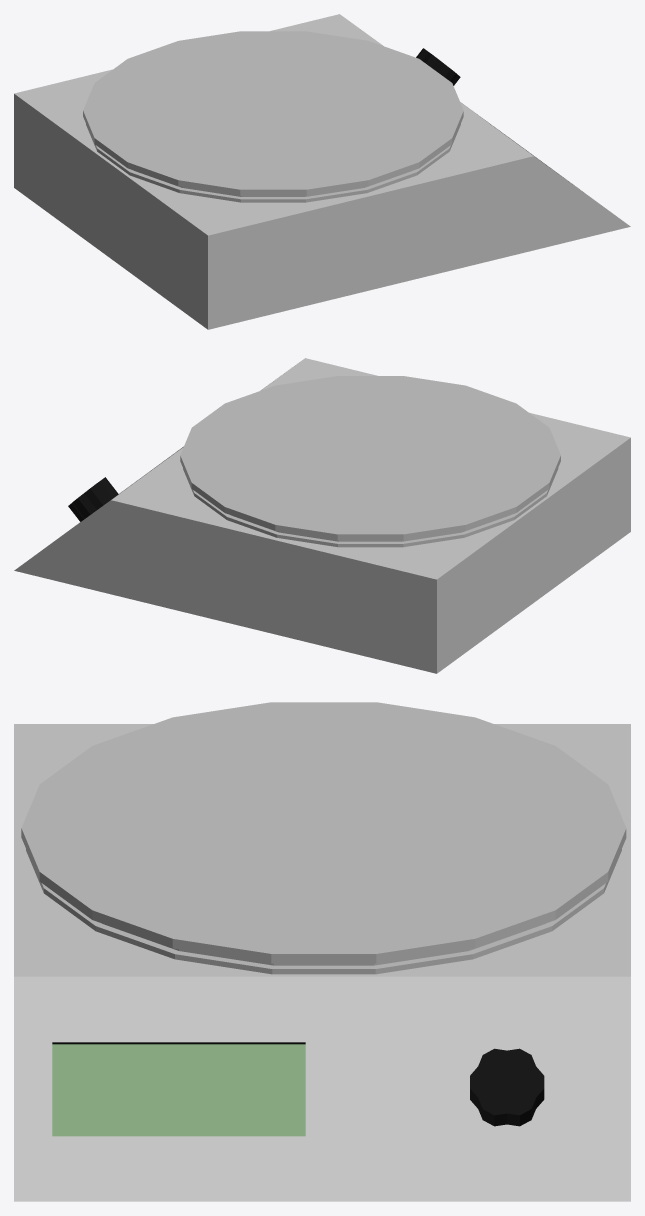
Rendered from Forninho.fbx.
3 renders of one model, top to bottom at view 1: azimuth 30°, elevation 25°; view 2: azimuth 150°, elevation 25°; view 3: azimuth 270°, elevation 25°, orthographic. The views are drawn at different scales.
Parts seen in each view (by area): view 1: Cube; view 2: Cube; view 3: Cube.
Boxes of the visible parts, x1,y1,x2,y2 form: Cube: (14, 14, 630, 329); Cube: (14, 358, 630, 673); Cube: (14, 702, 630, 1201).
Size of the model in its own units: 200 by 48.93 by 159.
